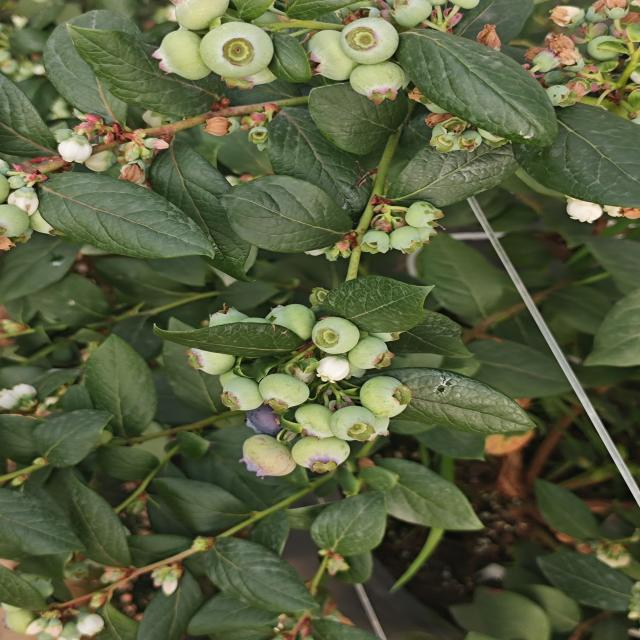ripe: (242, 400, 298, 446)
